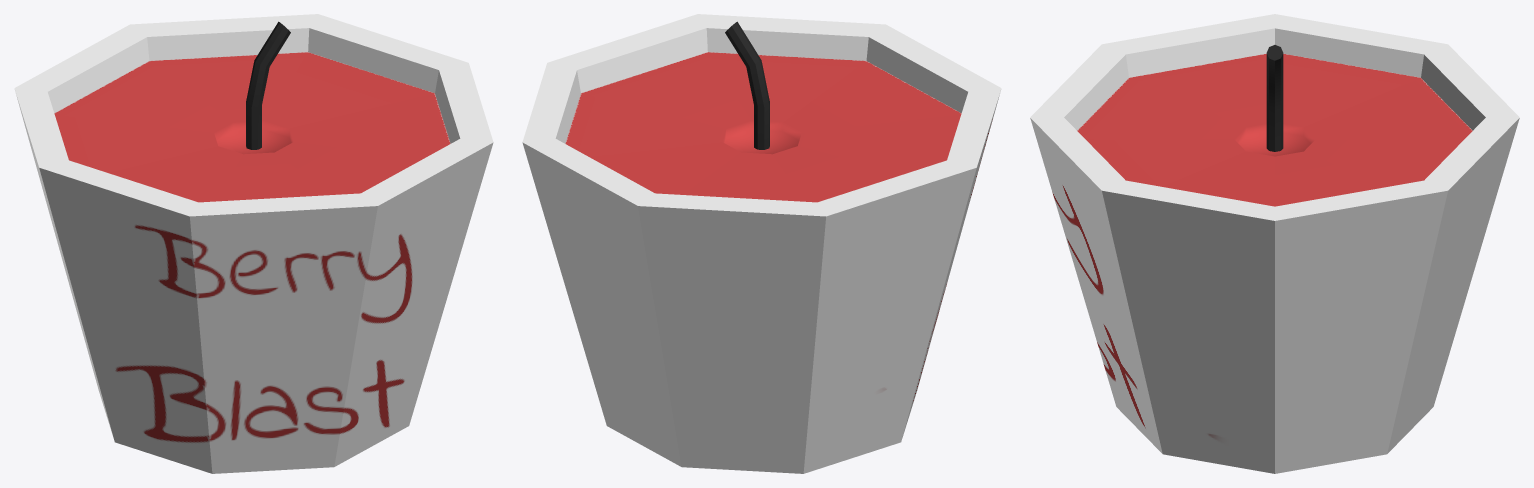
The model's file is Candle.fbx.
3 views of the same model, side by side, from view 1: azimuth 30°, elevation 25°; view 2: azimuth 150°, elevation 25°; view 3: azimuth 270°, elevation 25° (orthographic).
Parts seen in each view (by area): view 1: Candle; view 2: Candle; view 3: Candle.
Part boxes in pixels (x1,y1,x2,y2): Candle: (14, 14, 493, 473); Candle: (522, 14, 1001, 473); Candle: (1030, 14, 1519, 473).
Size of the model in its own units: 3.09 by 2.61 by 3.09.
